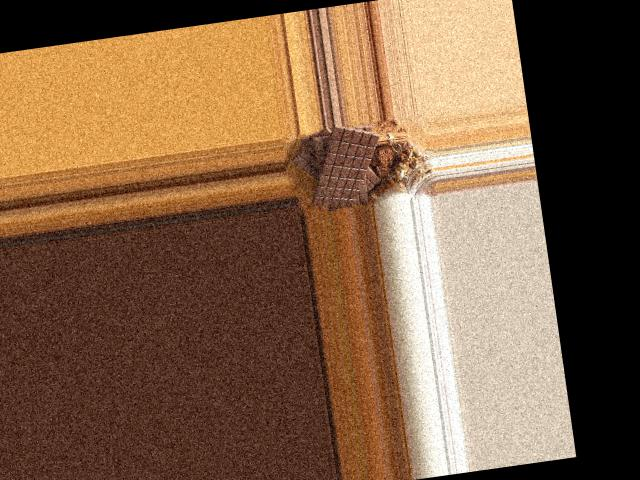chocolate: (301, 120, 392, 210)
